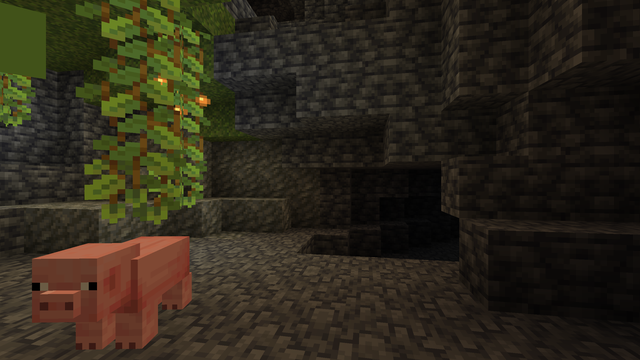cochons: (61, 234, 201, 355)
